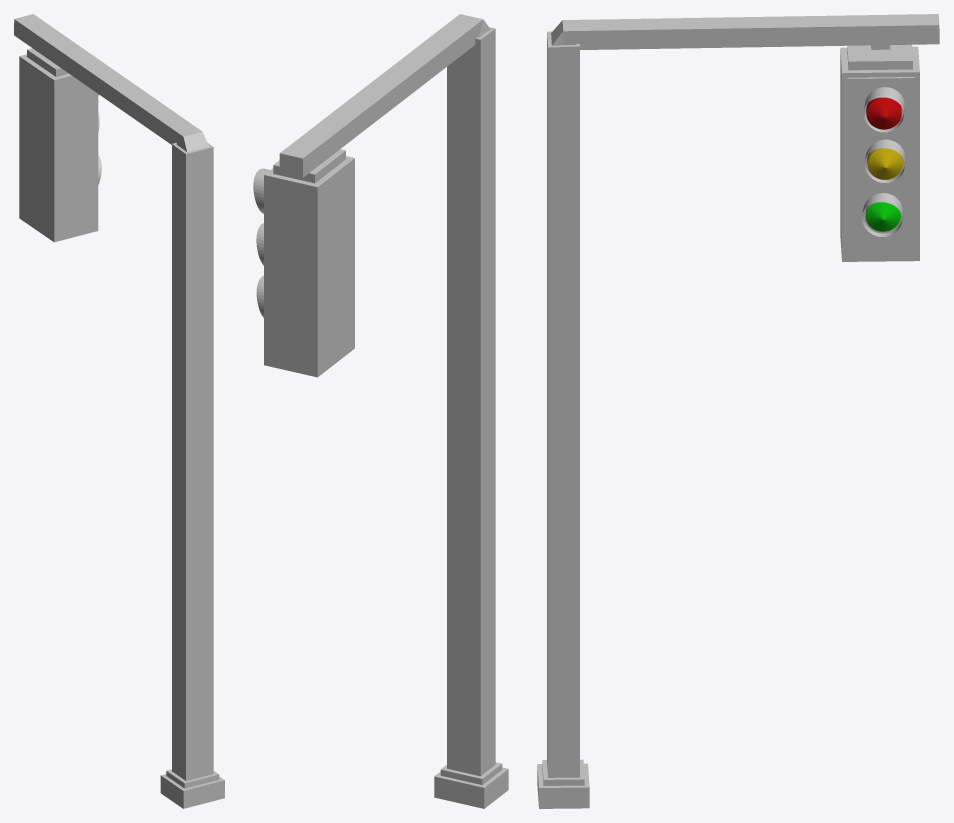
Rendered from semaforo.obj.
3 views of the same model, side by side, from view 1: azimuth 30°, elevation 25°; view 2: azimuth 150°, elevation 25°; view 3: azimuth 270°, elevation 25° (orthographic). The views are drawn at different scales.
Visible parts, largest first — view 1: semaforo.016; view 2: semaforo.016, BézierCircle.005; view 3: semaforo.016, BézierCircle.005, semaforo.019, semaforo.018, semaforo.017.
Boxes of the visible parts, x1,y1,x2,y2 form: semaforo.016: (14, 14, 224, 808); semaforo.016: (264, 14, 508, 808); BézierCircle.005: (253, 168, 269, 317); semaforo.016: (537, 14, 939, 808); BézierCircle.005: (862, 87, 905, 236); semaforo.019: (866, 97, 901, 129); semaforo.018: (867, 148, 902, 179); semaforo.017: (865, 202, 900, 231).
Size of the model in its own units: 0.2538 by 2.47 by 1.16.
